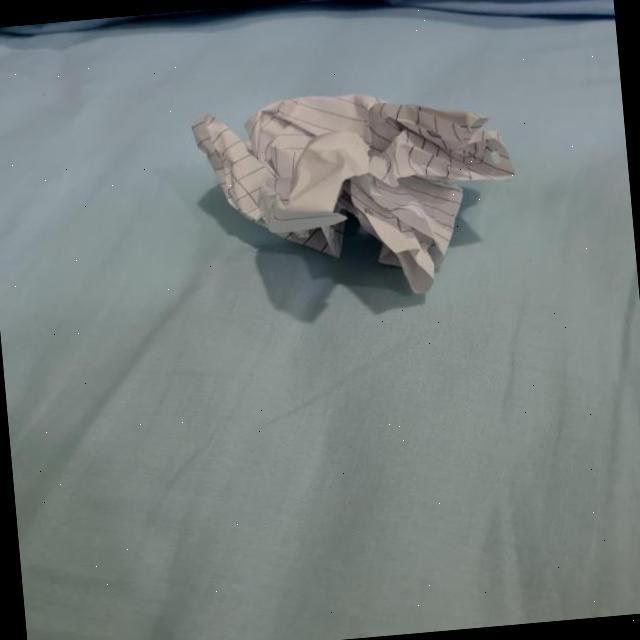trash: (176, 80, 509, 312)
